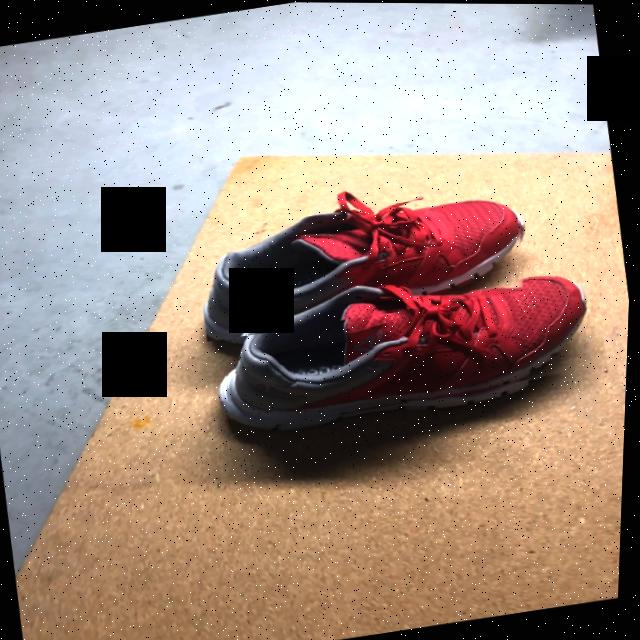shoe: (229, 280, 602, 433), (205, 200, 523, 339)
